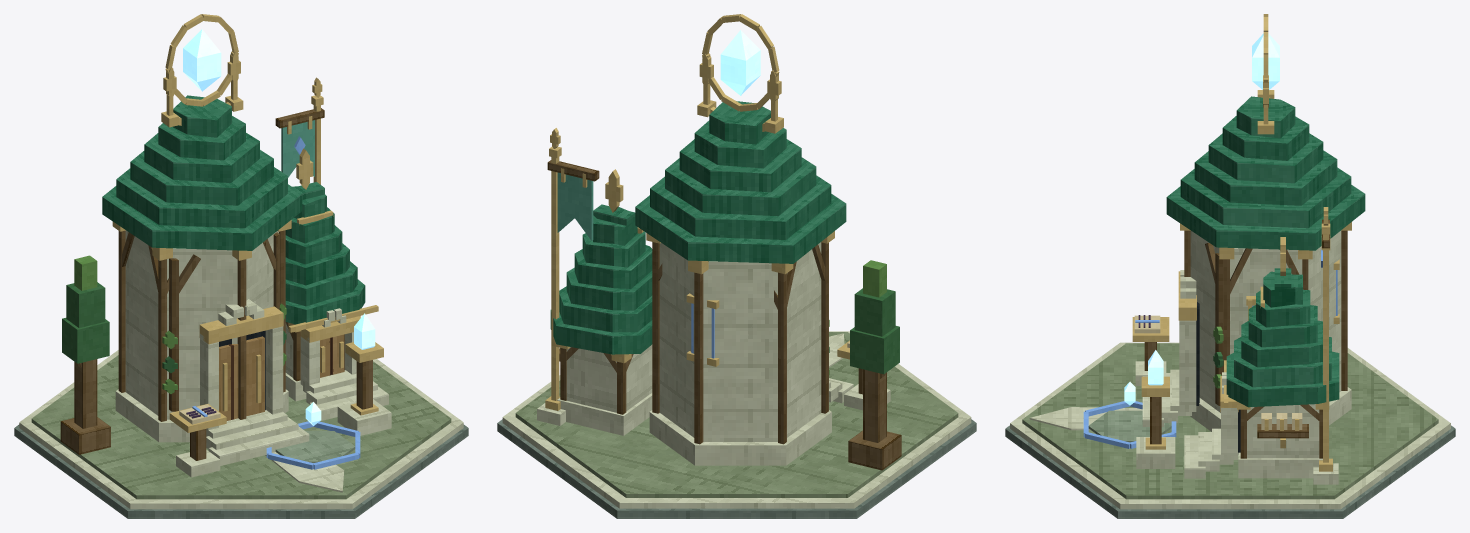
The model's file is elf_arcane_conclave_hex_v1.glb.
3 views of the same model, side by side, from view 1: azimuth 30°, elevation 25°; view 2: azimuth 150°, elevation 25°; view 3: azimuth 270°, elevation 25° (orthographic). The views are drawn at different scales.
Visible parts, largest first — view 1: Elf_Arcane_Conclave_Hex_V1_Hall, Elf_Arcane_Conclave_Hex_V1_Foundation, Elf_Arcane_Conclave_Hex_V1_Roofs, Elf_Arcane_Conclave_Hex_V1_Focus, Elf_Arcane_Conclave_Hex_V1_Courtyard, Elf_Arcane_Conclave_Hex_V1_Details, Elf_Arcane_Conclave_Hex_V1_Training, Elf_Arcane_Conclave_Hex_V1_Faction; view 2: Elf_Arcane_Conclave_Hex_V1_Hall, Elf_Arcane_Conclave_Hex_V1_Roofs, Elf_Arcane_Conclave_Hex_V1_Foundation, Elf_Arcane_Conclave_Hex_V1_Focus, Elf_Arcane_Conclave_Hex_V1_Faction, Elf_Arcane_Conclave_Hex_V1_Details, Elf_Arcane_Conclave_Hex_V1_Courtyard, Elf_Arcane_Conclave_Hex_V1_Training; view 3: Elf_Arcane_Conclave_Hex_V1_Foundation, Elf_Arcane_Conclave_Hex_V1_Roofs, Elf_Arcane_Conclave_Hex_V1_Hall, Elf_Arcane_Conclave_Hex_V1_Training, Elf_Arcane_Conclave_Hex_V1_Focus, Elf_Arcane_Conclave_Hex_V1_Courtyard, Elf_Arcane_Conclave_Hex_V1_Details, Elf_Arcane_Conclave_Hex_V1_Faction.
Boxes of the visible parts, x1,y1,x2,y2 form: Elf_Arcane_Conclave_Hex_V1_Hall: (115, 230, 360, 442); Elf_Arcane_Conclave_Hex_V1_Foundation: (14, 350, 468, 518); Elf_Arcane_Conclave_Hex_V1_Roofs: (102, 95, 378, 332); Elf_Arcane_Conclave_Hex_V1_Focus: (60, 14, 391, 454); Elf_Arcane_Conclave_Hex_V1_Courtyard: (206, 370, 388, 492); Elf_Arcane_Conclave_Hex_V1_Details: (112, 51, 360, 411); Elf_Arcane_Conclave_Hex_V1_Training: (169, 402, 360, 477); Elf_Arcane_Conclave_Hex_V1_Faction: (275, 95, 324, 184); Elf_Arcane_Conclave_Hex_V1_Hall: (557, 242, 831, 465); Elf_Arcane_Conclave_Hex_V1_Roofs: (550, 101, 846, 354); Elf_Arcane_Conclave_Hex_V1_Foundation: (497, 331, 976, 518); Elf_Arcane_Conclave_Hex_V1_Focus: (697, 14, 901, 470); Elf_Arcane_Conclave_Hex_V1_Faction: (537, 146, 599, 425); Elf_Arcane_Conclave_Hex_V1_Details: (550, 53, 834, 374); Elf_Arcane_Conclave_Hex_V1_Courtyard: (829, 333, 853, 403); Elf_Arcane_Conclave_Hex_V1_Training: (559, 340, 890, 410); Elf_Arcane_Conclave_Hex_V1_Foundation: (1005, 342, 1455, 518); Elf_Arcane_Conclave_Hex_V1_Roofs: (1166, 96, 1365, 407); Elf_Arcane_Conclave_Hex_V1_Hall: (1178, 230, 1351, 478); Elf_Arcane_Conclave_Hex_V1_Training: (1083, 315, 1308, 448); Elf_Arcane_Conclave_Hex_V1_Focus: (1136, 14, 1279, 468); Elf_Arcane_Conclave_Hex_V1_Courtyard: (1029, 369, 1233, 478); Elf_Arcane_Conclave_Hex_V1_Details: (1180, 75, 1351, 409); Elf_Arcane_Conclave_Hex_V1_Faction: (1313, 219, 1338, 484).
Bounding box in the file's own units: 1.59 × 1.84 × 1.84.
Materials: 1 (1 with a texture image).
